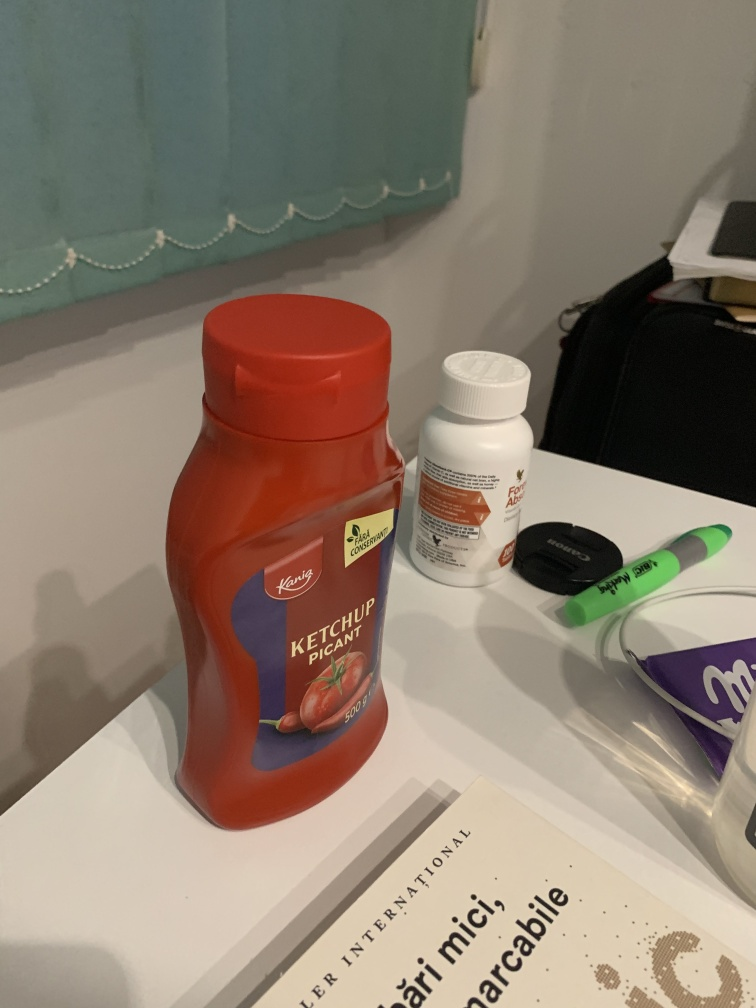ketchup: (159, 288, 409, 836)
milka: (616, 630, 756, 773)
